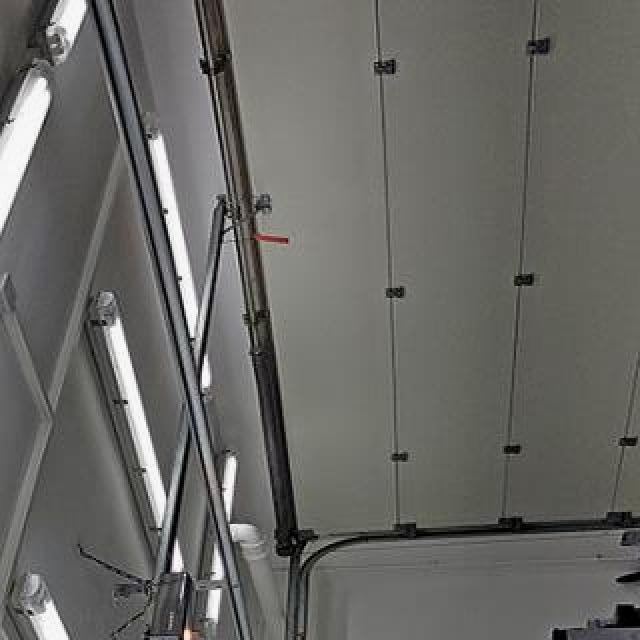fluorescent tube: (84, 278, 198, 629), (0, 42, 78, 440), (0, 568, 170, 640), (0, 0, 124, 70)
